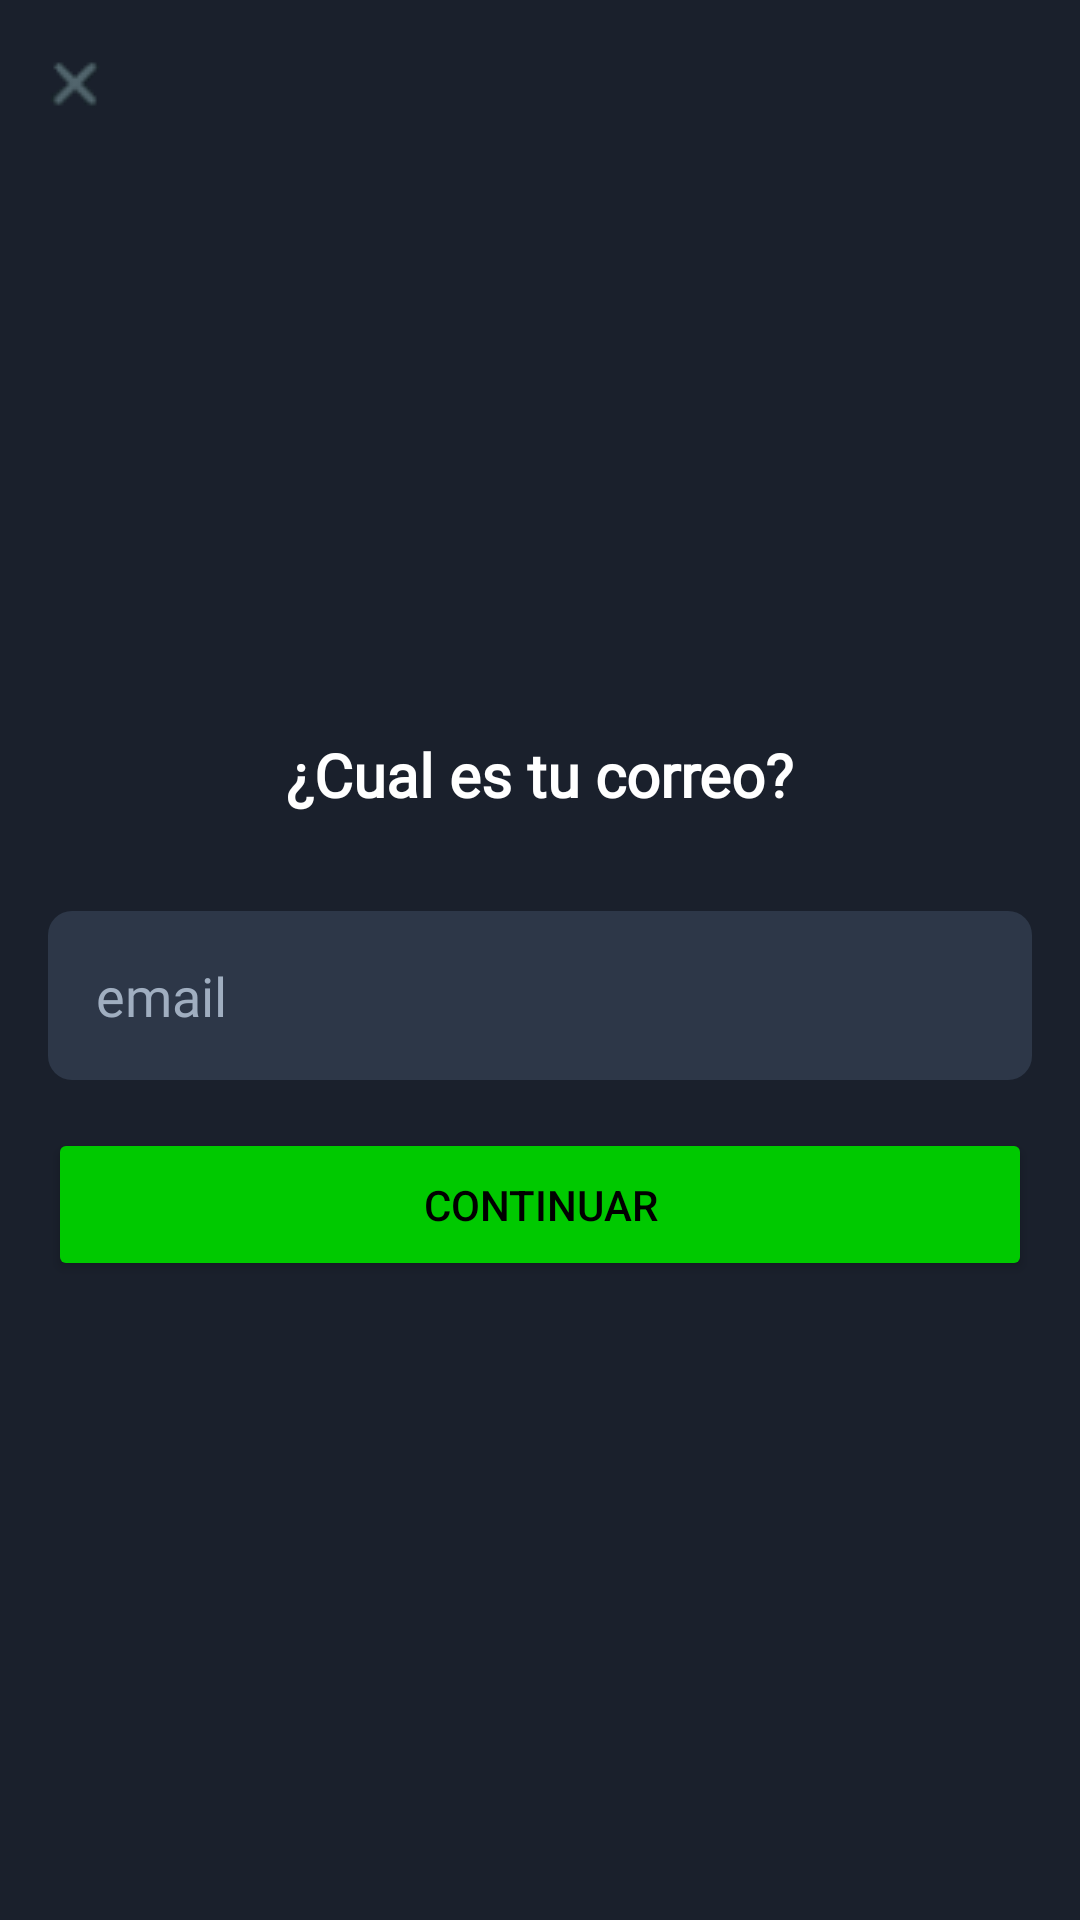

Where icons sit on this 1080×1920 app screen, as bbox=(x1, y1, x2, y2):
Cerrar: bbox=(54, 63, 96, 105)
